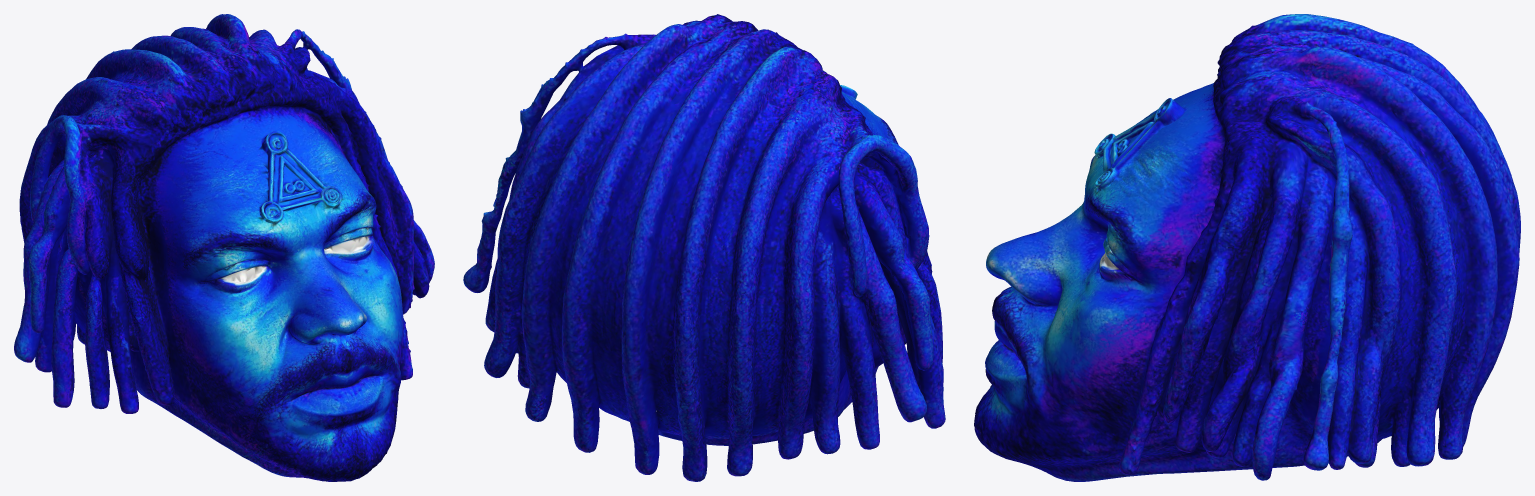
File: MARS_LOD1.glb
3 renders of one model, left to right at view 1: azimuth 30°, elevation 25°; view 2: azimuth 150°, elevation 25°; view 3: azimuth 270°, elevation 25°, orthographic. The views are drawn at different scales.
Visible parts, largest first — view 1: tripo_node_63779a1f-eb9a-4b4a-a12c-e90b88a426b1; view 2: tripo_node_63779a1f-eb9a-4b4a-a12c-e90b88a426b1; view 3: tripo_node_63779a1f-eb9a-4b4a-a12c-e90b88a426b1.
Part boxes in pixels (x1,y1,x2,y2): tripo_node_63779a1f-eb9a-4b4a-a12c-e90b88a426b1: (14,14,434,481); tripo_node_63779a1f-eb9a-4b4a-a12c-e90b88a426b1: (463,14,945,481); tripo_node_63779a1f-eb9a-4b4a-a12c-e90b88a426b1: (974,14,1520,481).
Size of the model in its own units: 0.9783 by 0.8438 by 0.9768.
Materials: 1 (1 with a texture image).
